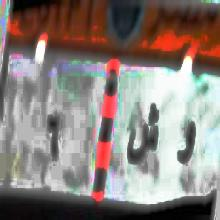6: (44, 110, 62, 166)
sheen: (126, 93, 160, 179)
waw: (175, 117, 196, 167)
